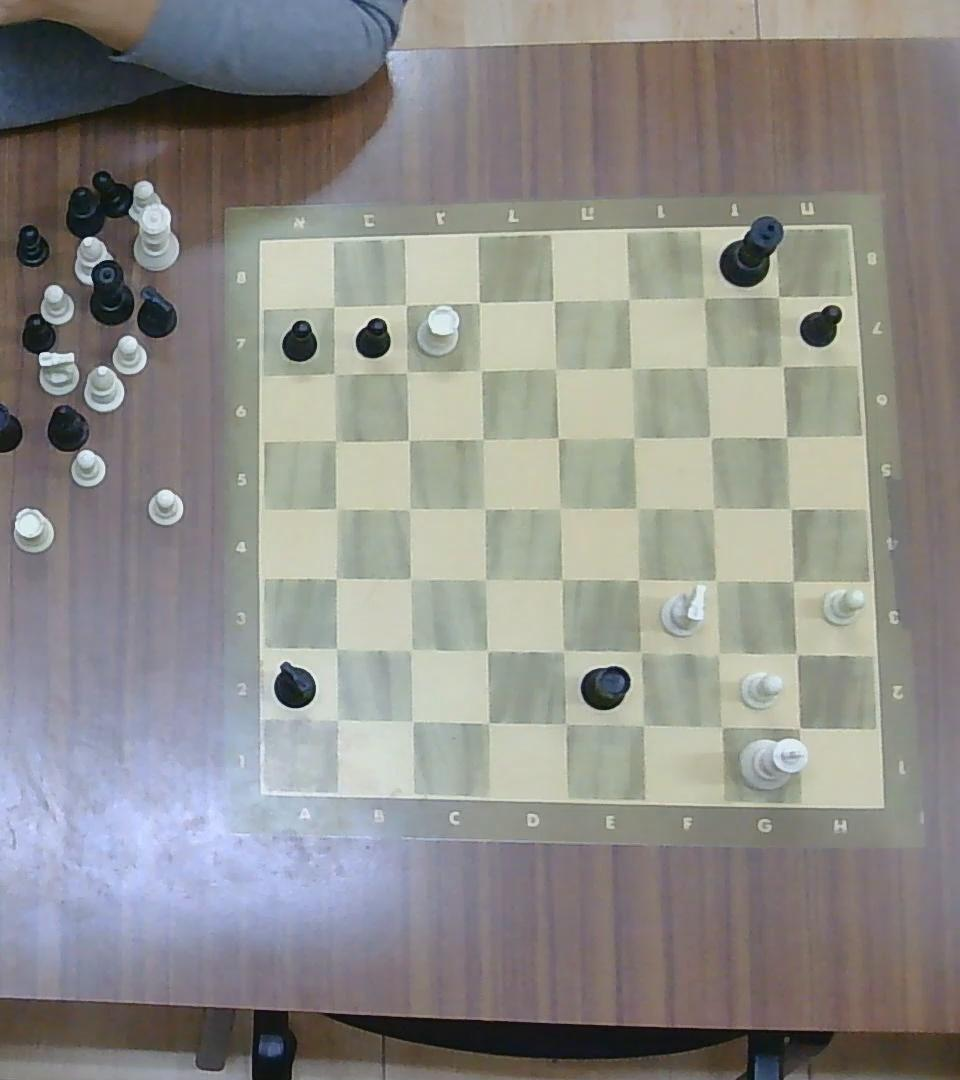xcorner: (703, 708, 737, 742), (781, 710, 815, 743), (701, 636, 735, 669), (471, 706, 503, 738), (621, 562, 653, 594), (548, 706, 580, 738), (626, 707, 658, 739), (625, 635, 656, 667), (780, 637, 812, 668), (320, 703, 352, 734), (471, 634, 501, 665), (396, 705, 427, 735), (698, 492, 728, 523), (547, 563, 577, 594), (470, 563, 500, 594), (776, 565, 807, 595), (548, 636, 578, 666), (615, 283, 645, 313), (700, 565, 730, 595), (618, 351, 648, 381), (776, 493, 806, 522), (539, 285, 568, 315), (395, 635, 424, 664), (622, 493, 651, 522), (321, 633, 350, 662), (542, 353, 571, 382), (547, 493, 575, 522), (471, 493, 499, 522), (545, 422, 573, 451), (621, 422, 649, 451), (321, 564, 350, 592), (467, 424, 495, 452), (395, 564, 423, 592), (323, 495, 351, 523), (321, 426, 350, 453), (395, 494, 423, 521), (692, 283, 720, 310), (465, 288, 493, 315), (693, 352, 721, 379), (769, 352, 797, 379), (320, 293, 348, 320), (698, 423, 725, 450), (772, 422, 800, 448), (395, 425, 421, 452), (467, 354, 493, 381), (321, 360, 349, 385), (393, 358, 419, 383), (766, 284, 792, 309), (393, 291, 419, 315)
